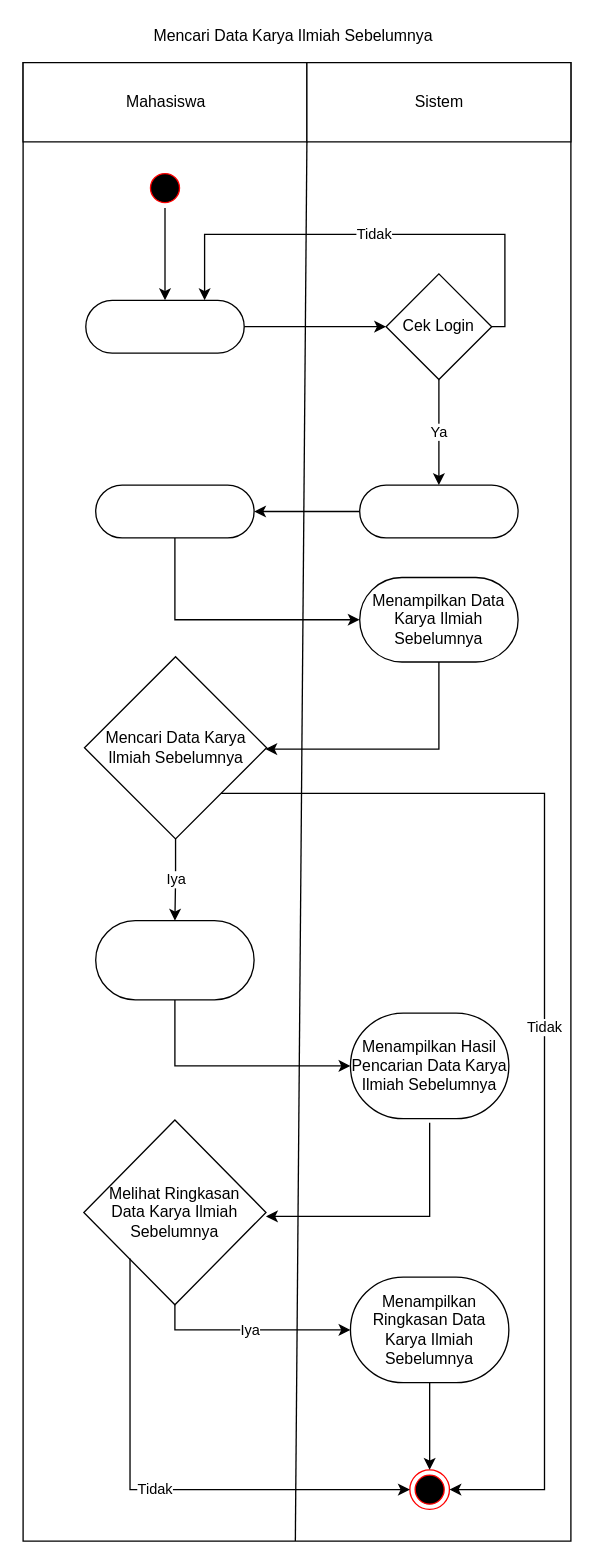
Some shapes in this 594 by 1566 pixel diagram are drawn without their labels. Each missing label, with the centre of its shape:
"Login" goes at (164,326).
"Memasukkan Pencarian Data Karya Ilmiah Sebelumnya" goes at (174,959).
"Memilih Menu Data Karya Ilmiah Sebelumnya" goes at (174,511).
"Menampilkan Halaman Utama" goes at (438,511).
